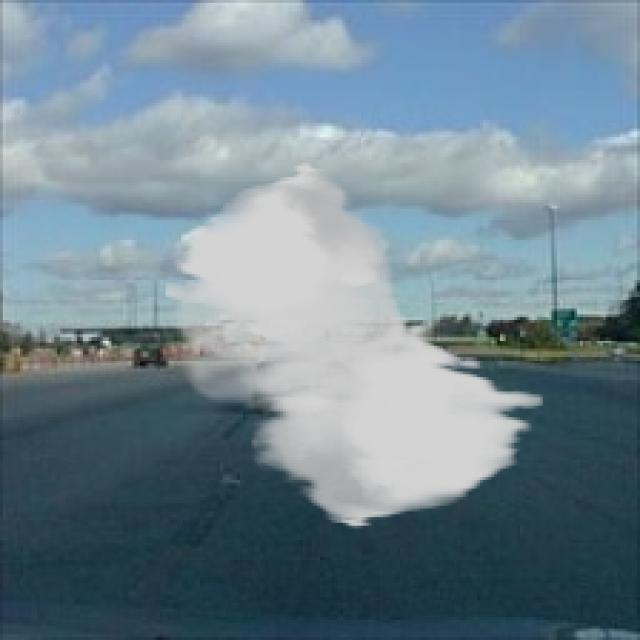smoke: (163, 160, 543, 529)
